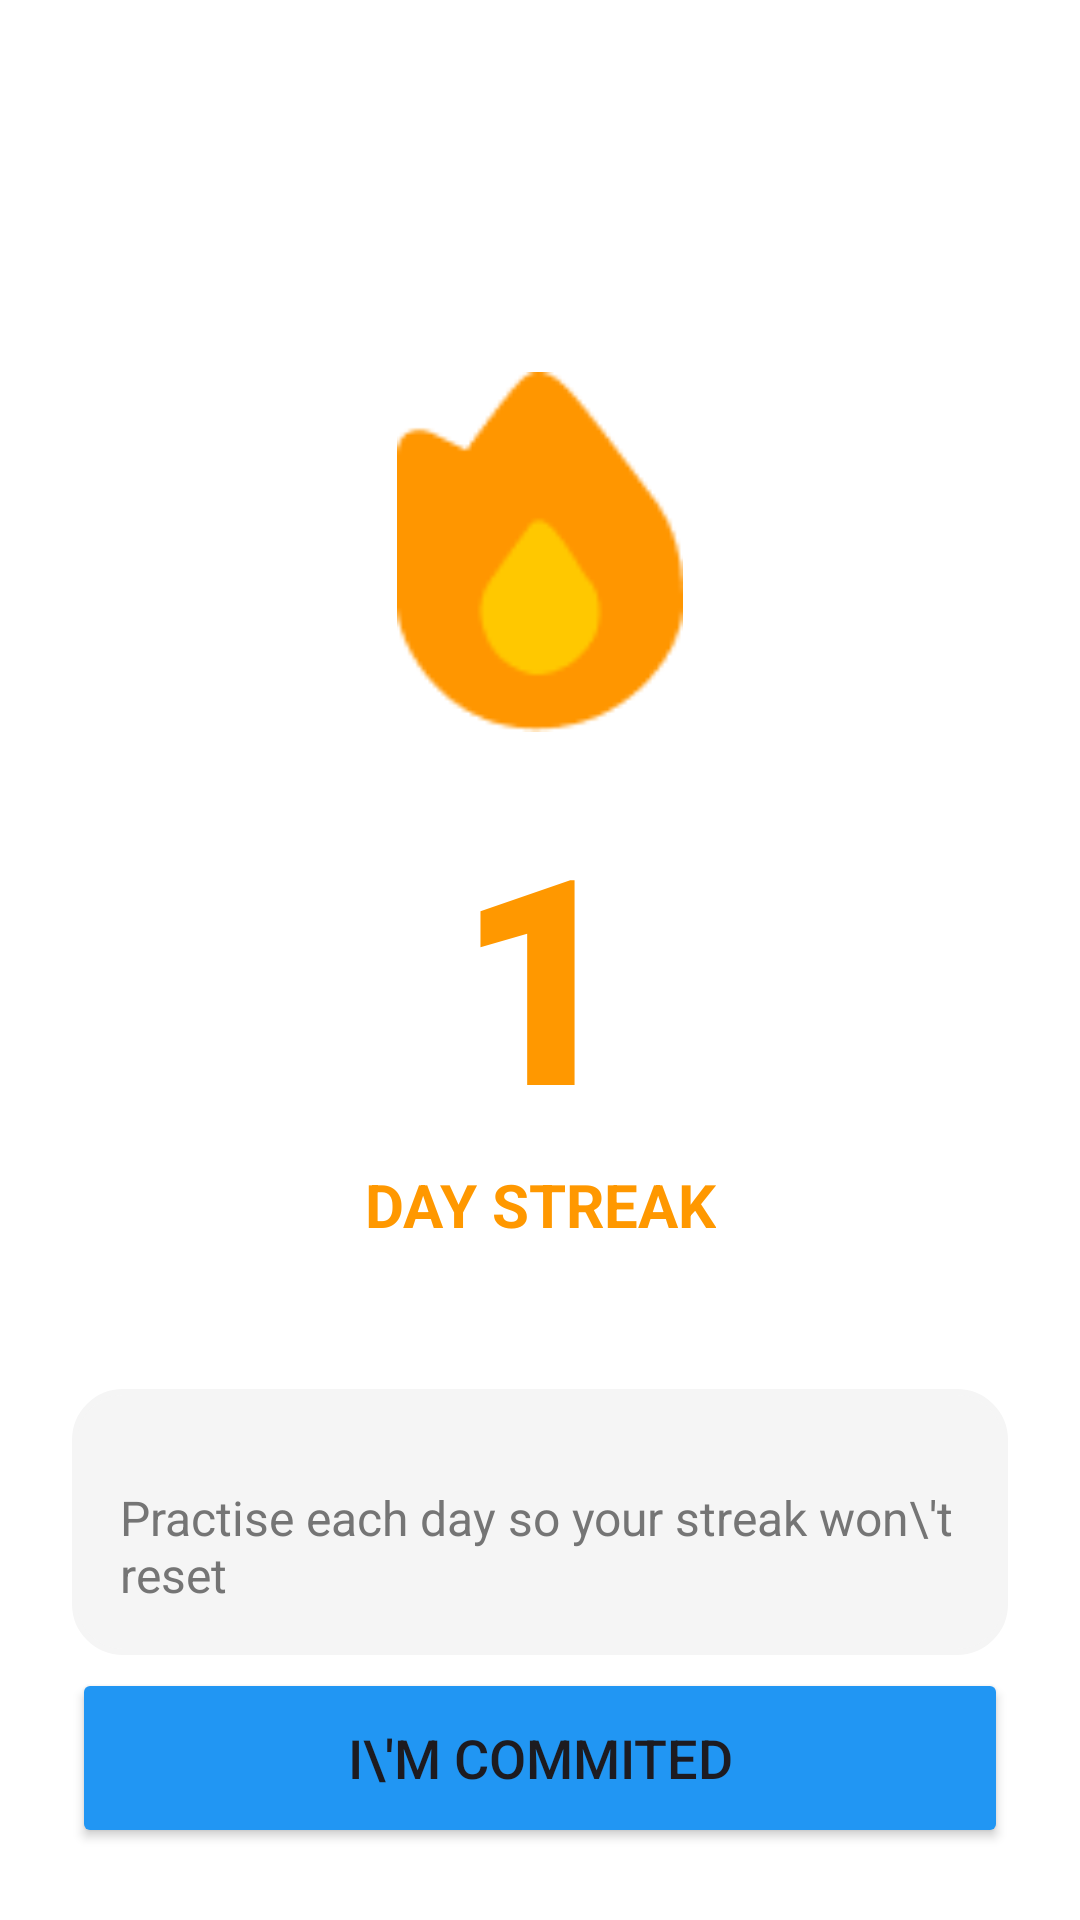

Point at icon controls on the screen. Image size 1080px x 1920px, points as (x,y).
fire: (540,552)
